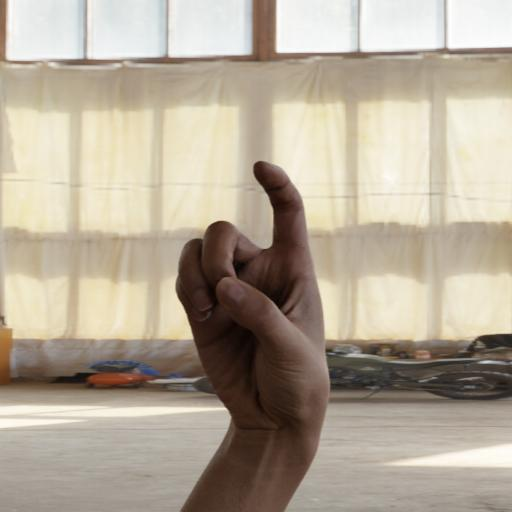X: (164, 152, 340, 460)
